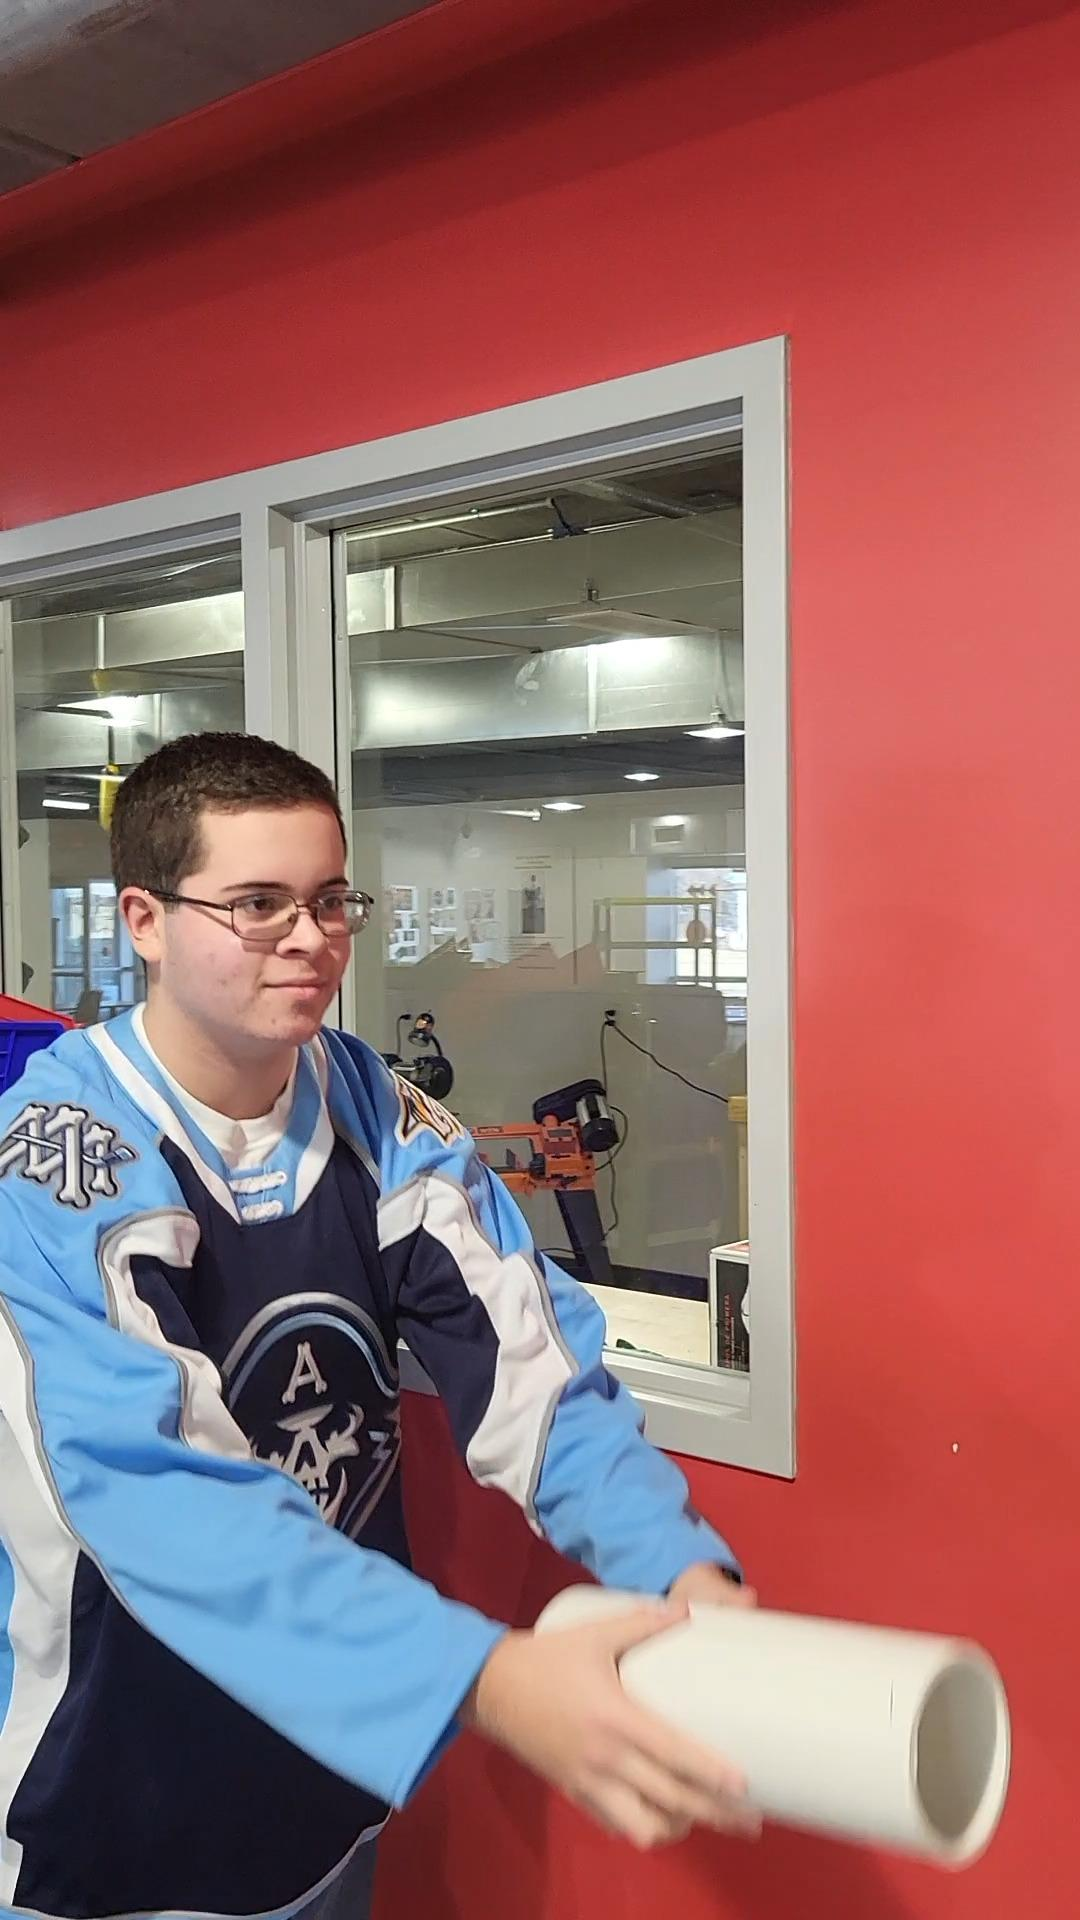coral: (533, 1573, 1010, 1871)
